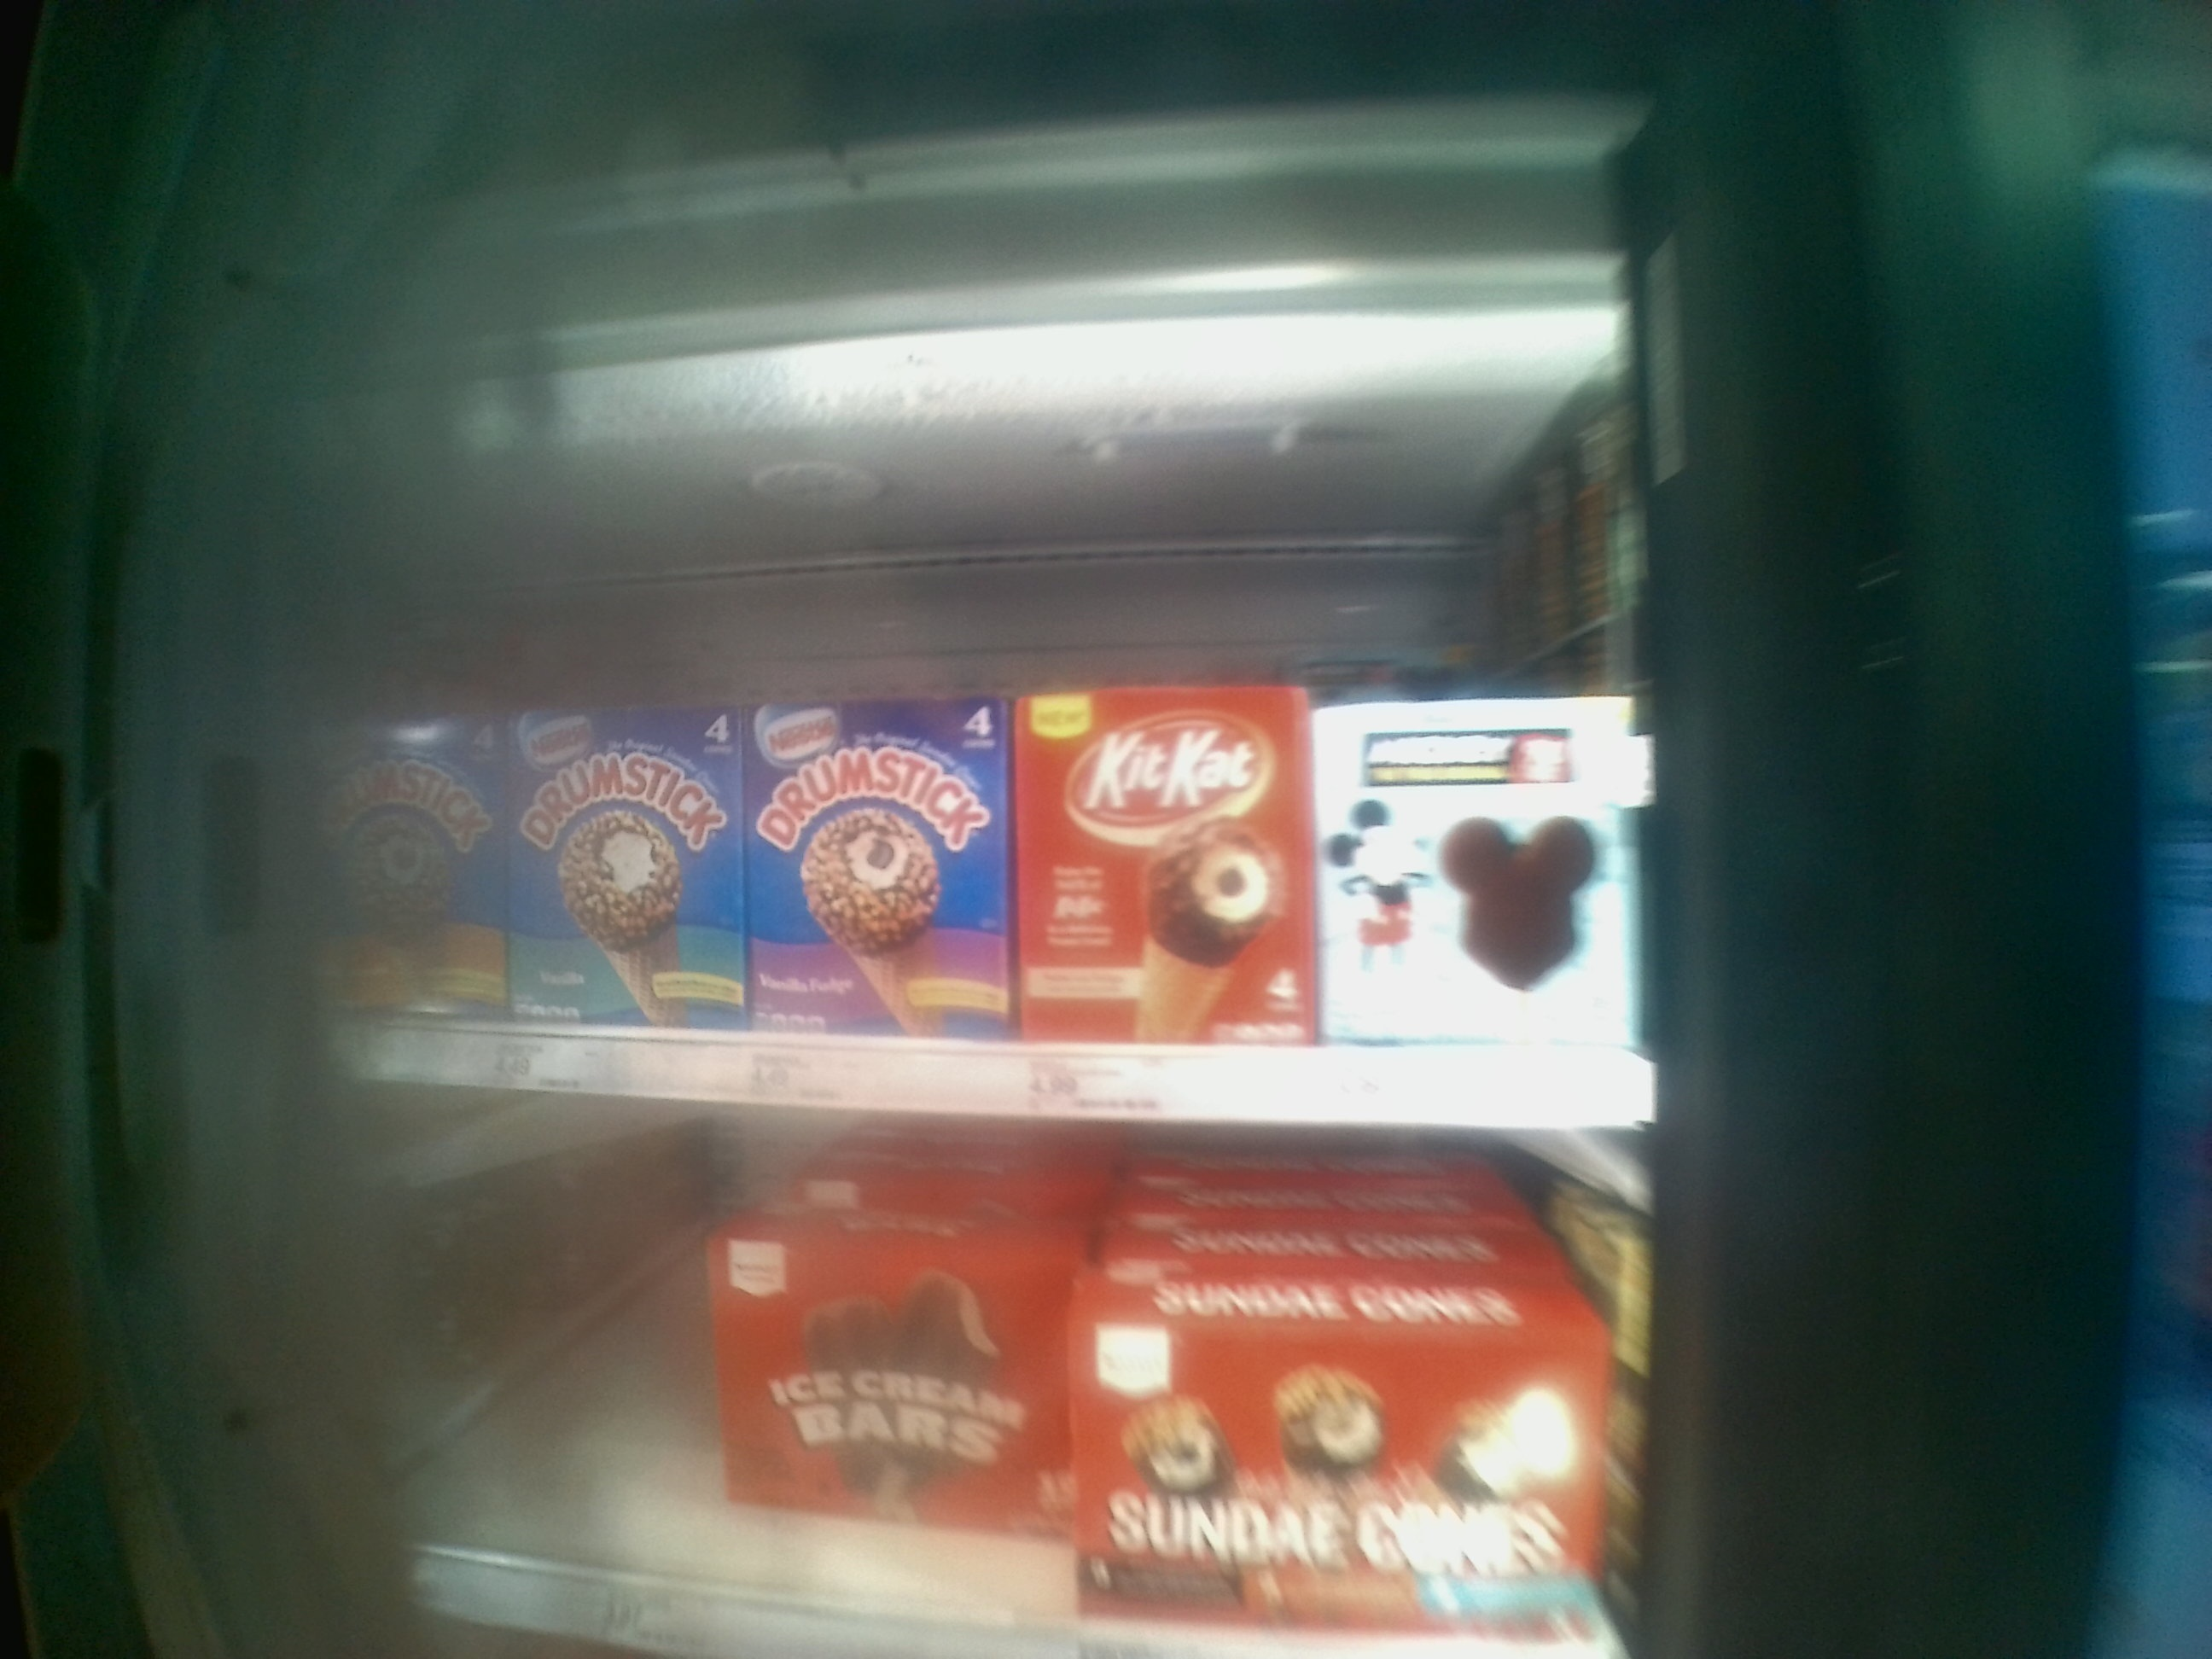shelf: (301, 619, 1662, 1122)
